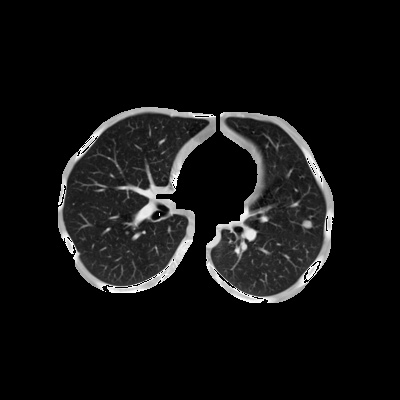PN: (303, 220, 311, 228)
